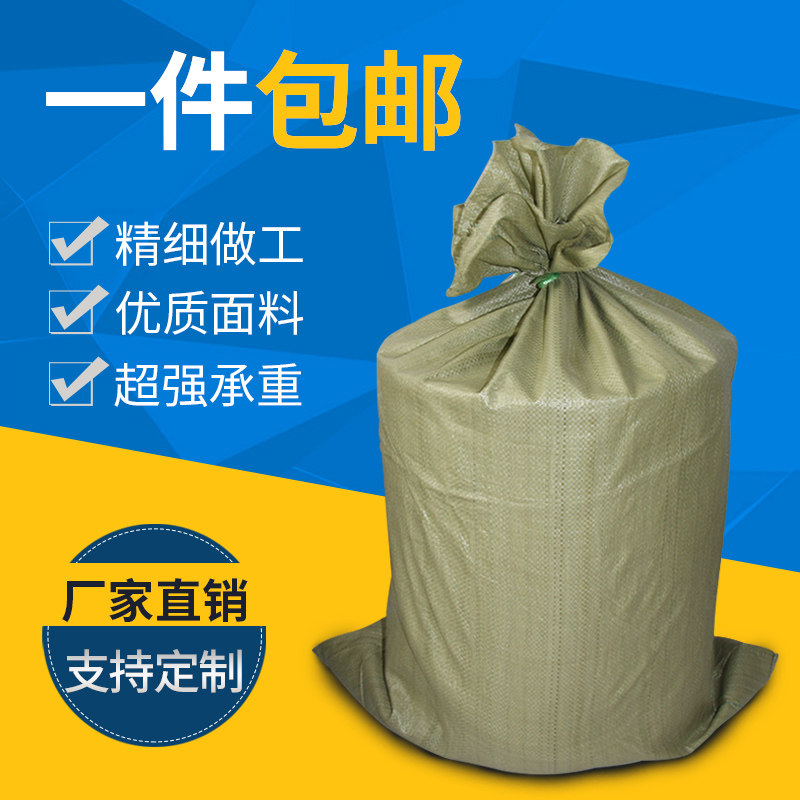Parcel: (326, 127, 776, 775)
